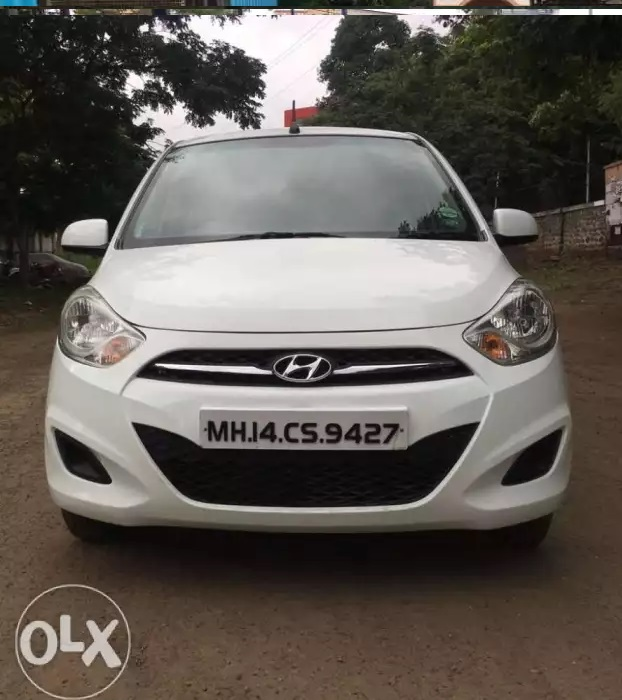licenseplate: (197, 404, 413, 458)
